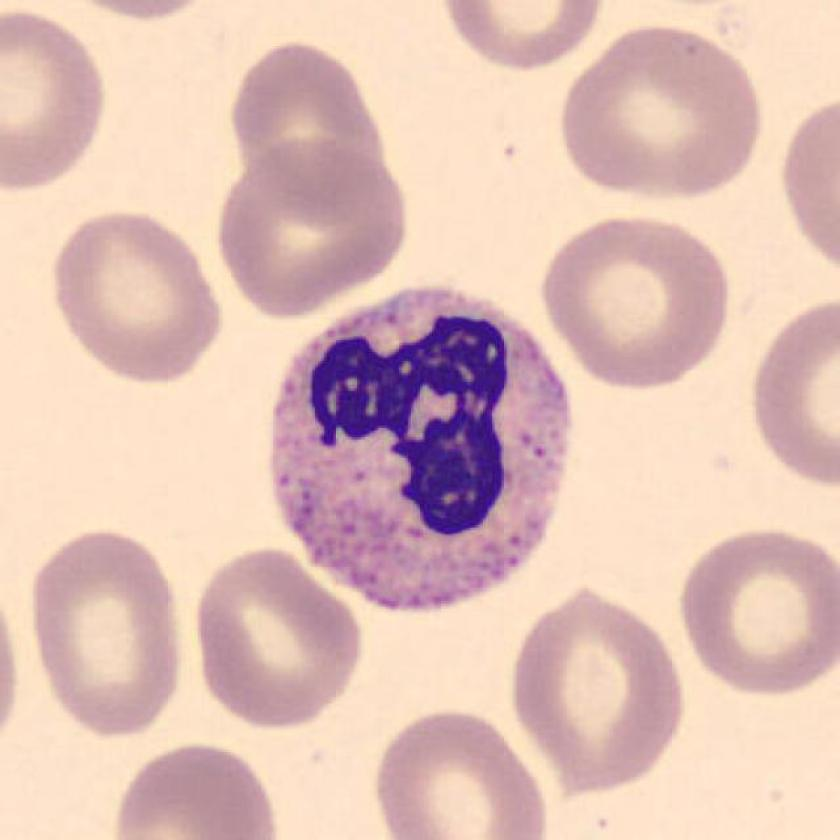neutrophil: (269, 287, 568, 611)
